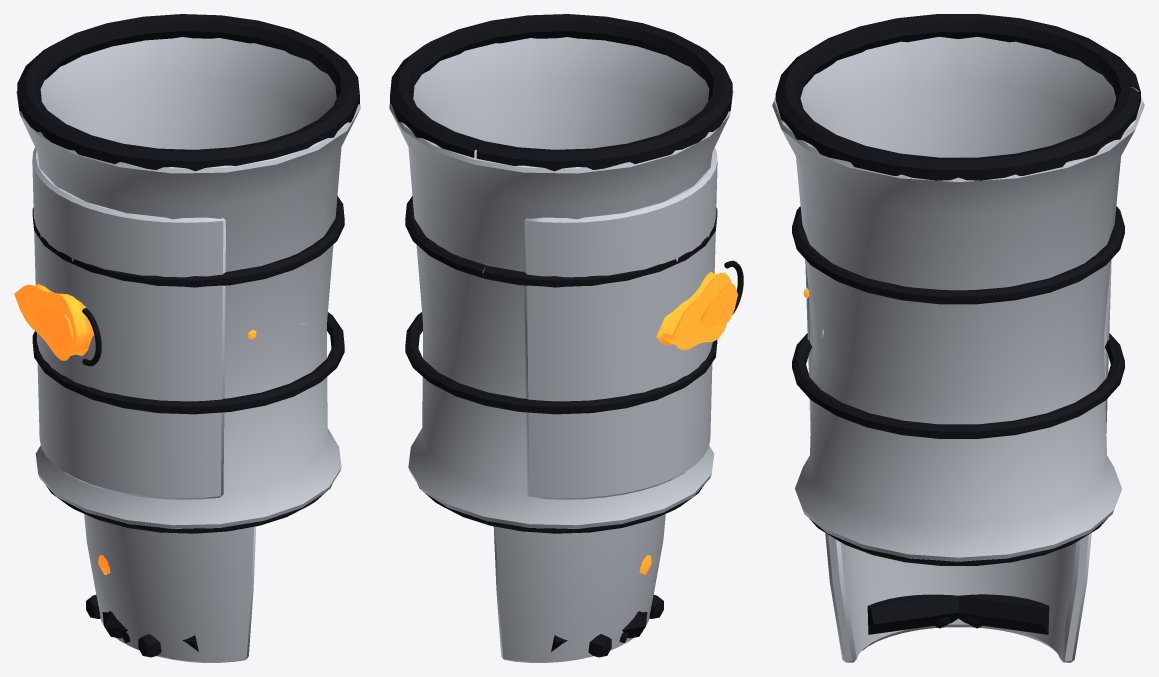
The model's file is esc_ruinmarch_herald_gloves_R.glb.
3 views of the same model, side by side, from view 1: azimuth 30°, elevation 25°; view 2: azimuth 150°, elevation 25°; view 3: azimuth 270°, elevation 25° (orthographic). The views are drawn at different scales.
Visible parts, largest first — view 1: esc_ruinmarch_herald_gloves, AT_hand_R; view 2: esc_ruinmarch_herald_gloves, AT_hand_R; view 3: esc_ruinmarch_herald_gloves, AT_hand_R.
Part boxes in pixels (left/top/right/bottom): esc_ruinmarch_herald_gloves: left=14, top=14, right=360, bottom=533; AT_hand_R: left=84, top=514, right=256, bottom=662; esc_ruinmarch_herald_gloves: left=389, top=14, right=743, bottom=533; AT_hand_R: left=493, top=514, right=665, bottom=662; esc_ruinmarch_herald_gloves: left=772, top=14, right=1144, bottom=565; AT_hand_R: left=825, top=533, right=1091, bottom=662.
Size of the model in its own units: 0.1971 by 0.3408 by 0.2004.
